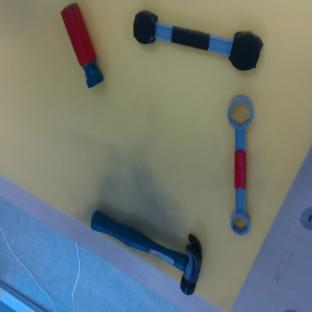part_2_good: (59, 2, 106, 89)
part_3_bad: (128, 8, 265, 74)
part_3_good: (225, 95, 253, 235)
